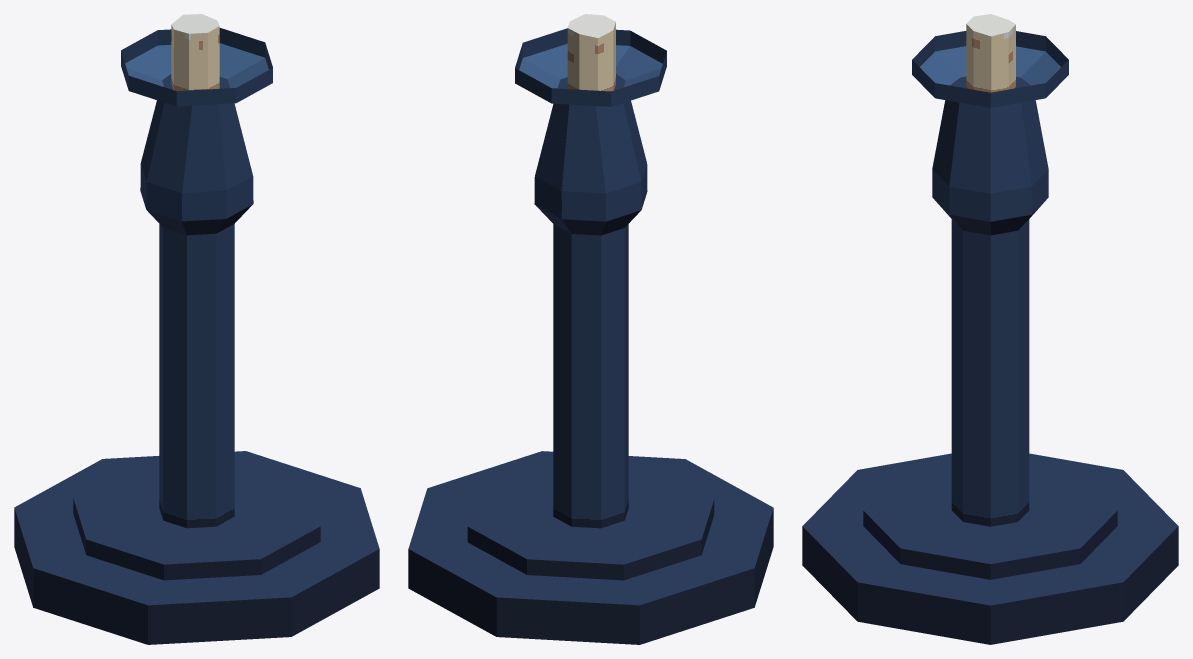
File: lamp.glb
3 views of the same model, side by side, from view 1: azimuth 30°, elevation 25°; view 2: azimuth 150°, elevation 25°; view 3: azimuth 270°, elevation 25° (orthographic).
Visible parts, largest first — view 1: CandleHolder, Candle; view 2: CandleHolder, Candle; view 3: CandleHolder, Candle.
Part boxes in pixels (bbox=[...]): CandleHolder: bbox=[14, 28, 379, 644]; Candle: bbox=[171, 14, 219, 90]; CandleHolder: bbox=[408, 28, 773, 644]; Candle: bbox=[567, 14, 615, 91]; CandleHolder: bbox=[802, 31, 1178, 644]; Candle: bbox=[966, 14, 1015, 92].
Bounding box in the file's own units: 1.05 × 1.66 × 1.05.
Materials: 2 (2 with a texture image).
